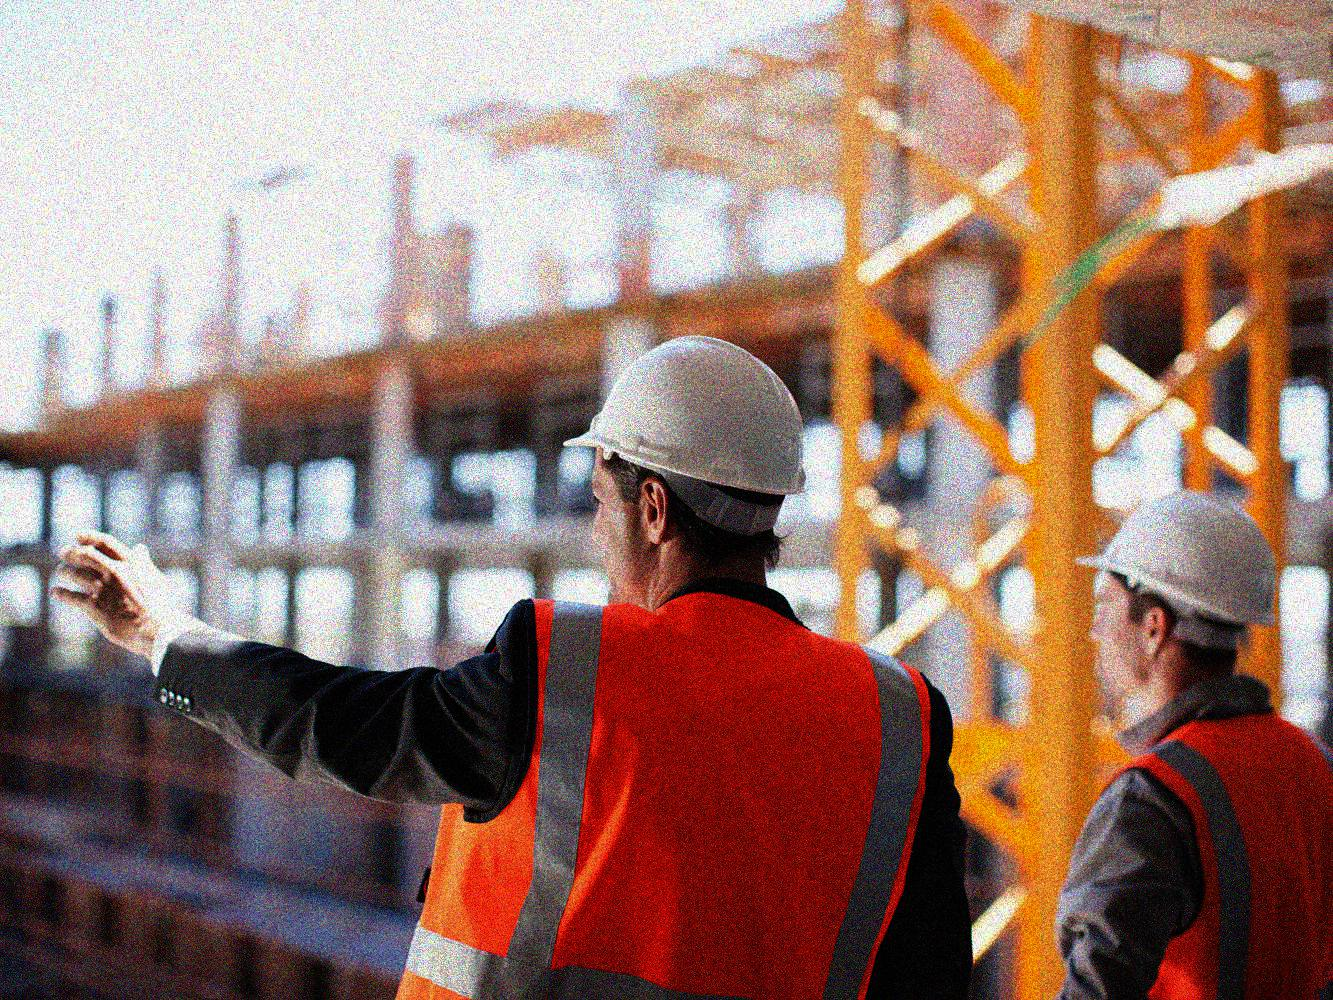helmet: (563, 333, 810, 616), (1072, 484, 1283, 702)
